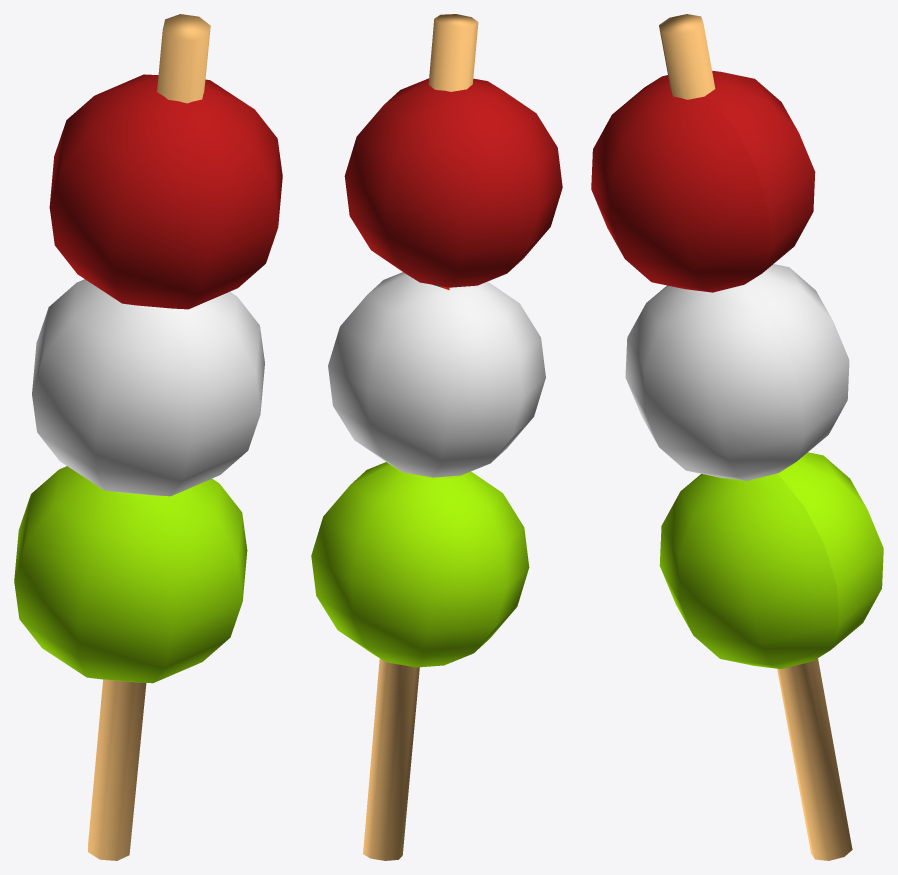
File: green_dango.glb
The picture shows the model from 3 angles, left to right: view 1: azimuth 30°, elevation 25°; view 2: azimuth 150°, elevation 25°; view 3: azimuth 270°, elevation 25°; orthographic projection. The views are drawn at different scales.
Parts seen in each view (by area): view 1: green_dango; view 2: green_dango; view 3: green_dango.
Part boxes in pixels (box(x1,y1,x2,y2)): green_dango: box(14, 14, 282, 860); green_dango: box(311, 14, 562, 860); green_dango: box(591, 14, 883, 860).
Size of the model in its own units: 0.2601 by 1.03 by 0.3288.
1 material, 1 textured.
